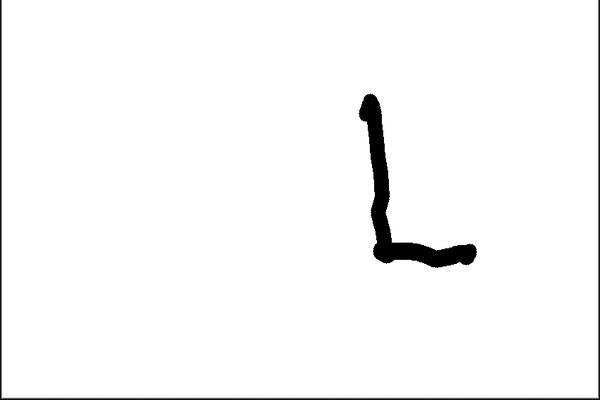L: (349, 88, 482, 275)
